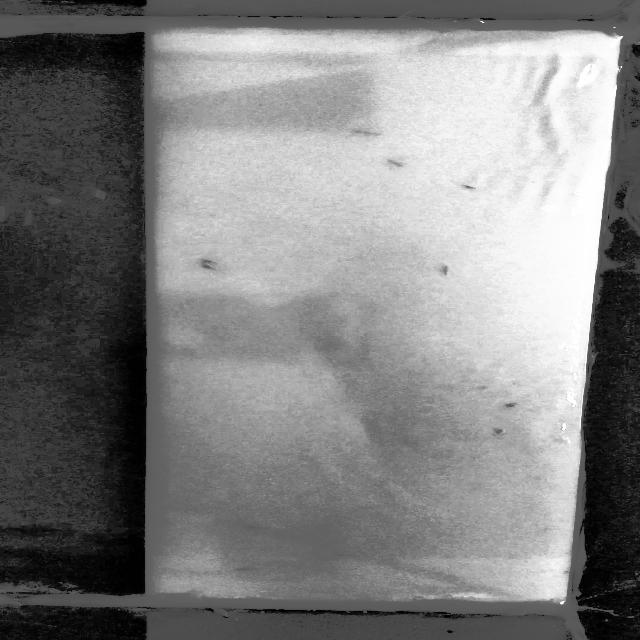shrimp: (230, 563, 268, 577), (196, 260, 233, 274), (494, 397, 526, 413), (236, 522, 278, 534), (494, 422, 516, 443), (332, 550, 358, 564), (386, 158, 413, 171), (462, 178, 488, 191), (441, 258, 450, 286), (478, 384, 498, 393), (207, 258, 229, 264)
